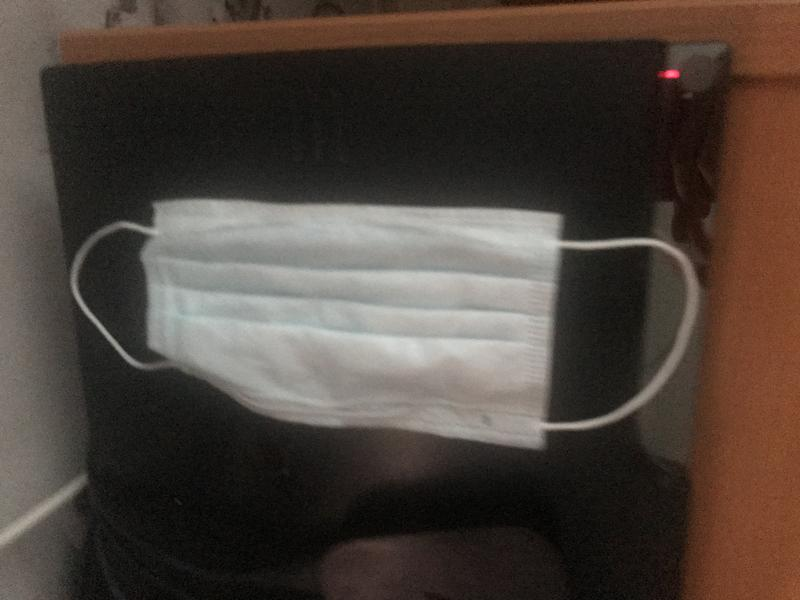medical_mask: (71, 198, 698, 455)
